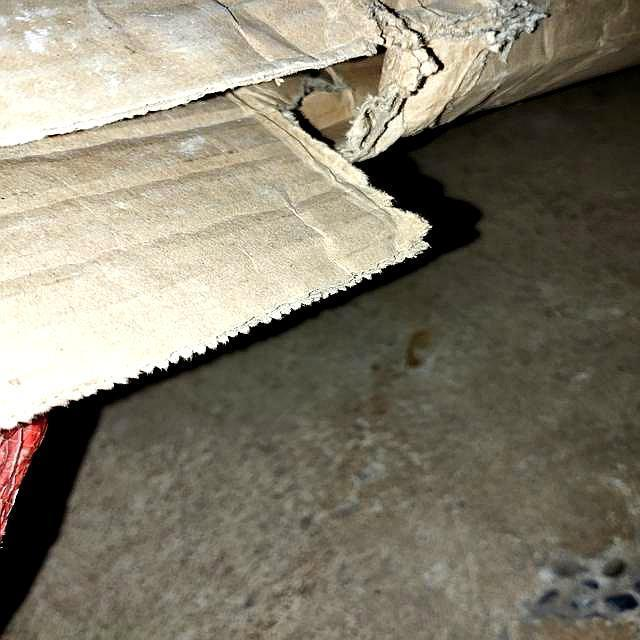Biodegradable: (1, 1, 640, 436)
